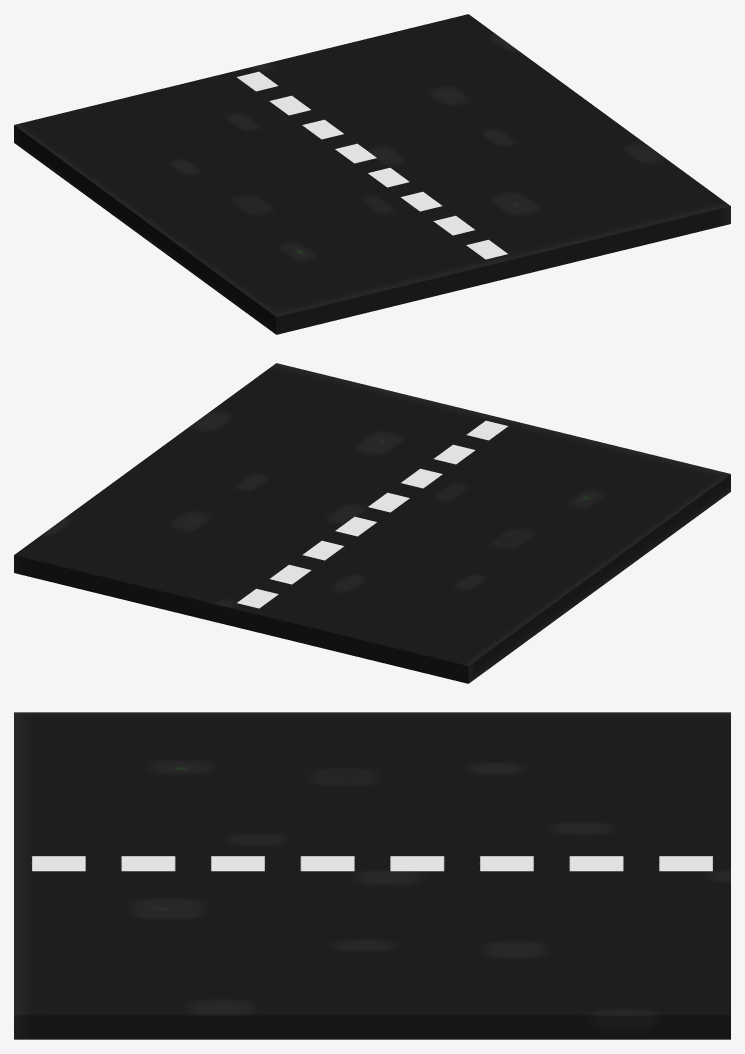
The model's file is road_8x8_00.glb.
3 renders of one model, top to bottom at view 1: azimuth 30°, elevation 25°; view 2: azimuth 150°, elevation 25°; view 3: azimuth 270°, elevation 25°, orthographic. The views are drawn at different scales.
Parts seen in each view (by area): view 1: road_8x8_00; view 2: road_8x8_00; view 3: road_8x8_00.
Part boxes in pixels (x1,y1,x2,y2): road_8x8_00: (14, 14, 730, 334); road_8x8_00: (14, 363, 730, 683); road_8x8_00: (14, 712, 730, 1039).
Size of what is drawn, in the model's own units: 8 by 0.3 by 8.
Materials: 1 (1 with a texture image).
